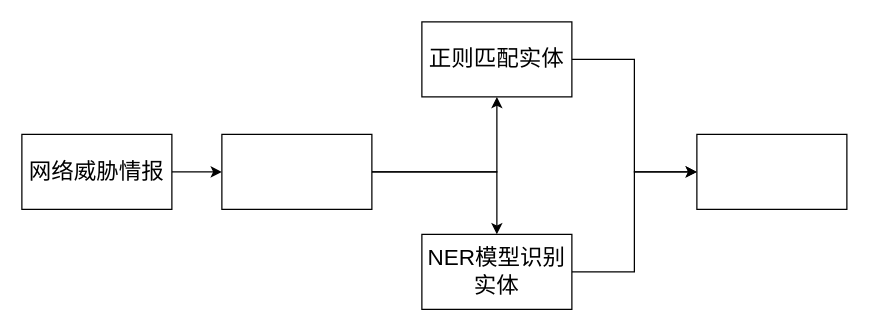
Image size: 869x331. Some labels were removed from this diagram. The shapes that lost their labels are listed below. From the top down, each one's centre as x and y in pixels, then its label:
pixel 296 171: 数据预处理
pixel 771 171: 威胁情报实体
